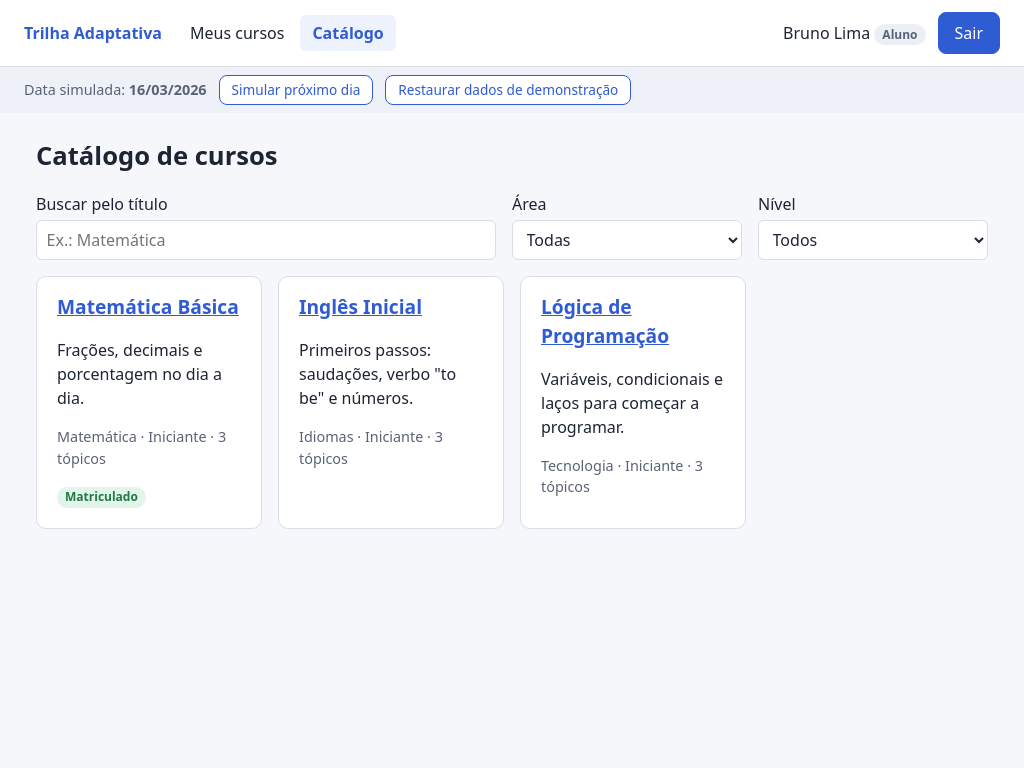
Test: catálogo › busca sem resultados mostra a mensagem
The width and height of the screenshot is (1024, 768).
Type "astronomia" into the search field labelled "Buscar pelo título" at (266,240), box [36,220,496,260]
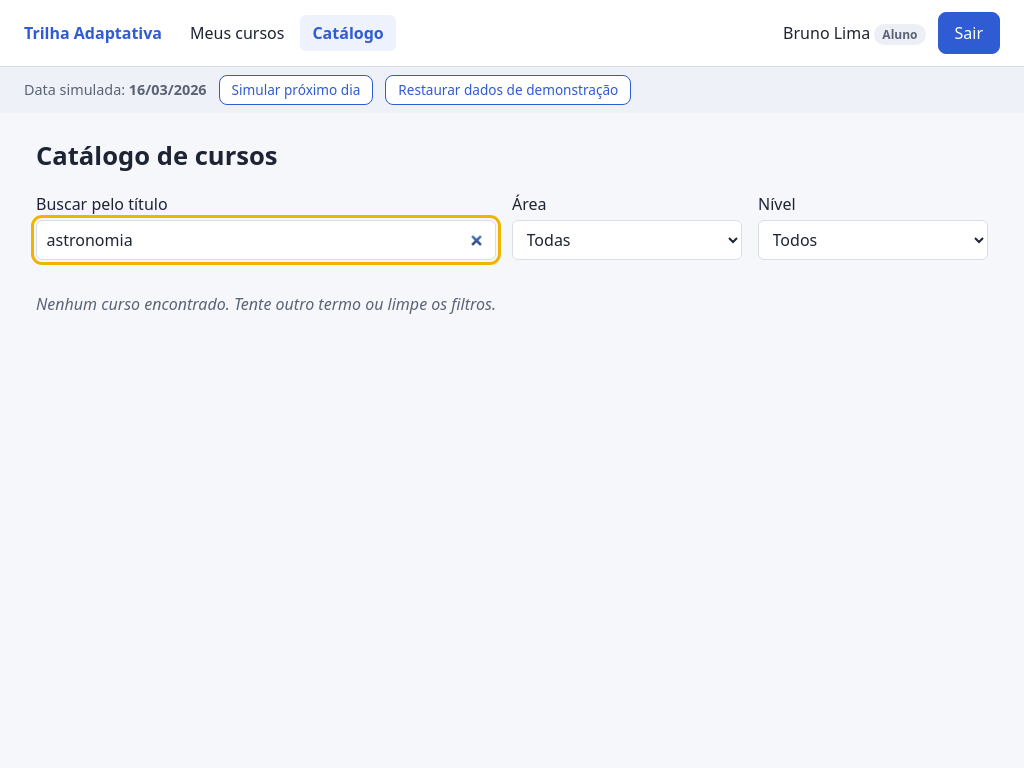
expect the text "Nenhum curso encontrado" is shown: met, box [36,293,496,315]
